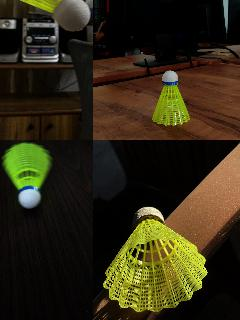shuttlecock: (103, 206, 207, 312), (2, 142, 52, 208), (0, 0, 91, 32), (152, 70, 190, 126)
